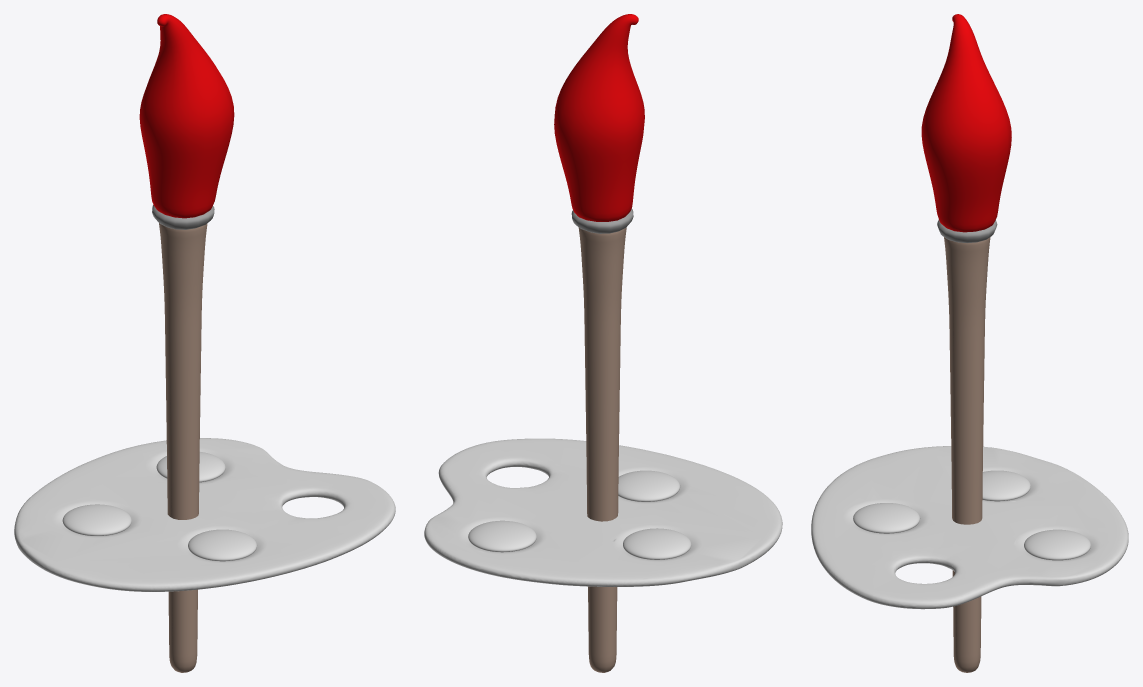
The model's file is palette.glb.
3 renders of one model, left to right at view 1: azimuth 30°, elevation 25°; view 2: azimuth 150°, elevation 25°; view 3: azimuth 270°, elevation 25°, orthographic. The views are drawn at different scales.
Parts seen in each view (by area): view 1: palette, Vert, easy-col, medium-col, hard-col; view 2: palette, Vert, medium-col, hard-col, easy-col; view 3: palette, Vert, hard-col, easy-col, medium-col.
Boxes of the visible parts, x1,y1,x2,y2 form: palette: [14, 438, 395, 591]; Vert: [139, 14, 234, 672]; easy-col: [188, 529, 256, 561]; medium-col: [62, 504, 131, 535]; hard-col: [156, 452, 225, 482]; palette: [424, 438, 782, 586]; Vert: [554, 14, 644, 672]; medium-col: [623, 528, 691, 559]; hard-col: [468, 520, 536, 552]; easy-col: [618, 470, 680, 501]; palette: [811, 446, 1128, 609]; Vert: [921, 14, 1011, 672]; hard-col: [1024, 529, 1090, 560]; easy-col: [853, 503, 920, 533]; medium-col: [982, 470, 1030, 501].
Bounding box in the file's own units: 4.6 × 8.75 × 3.9.
